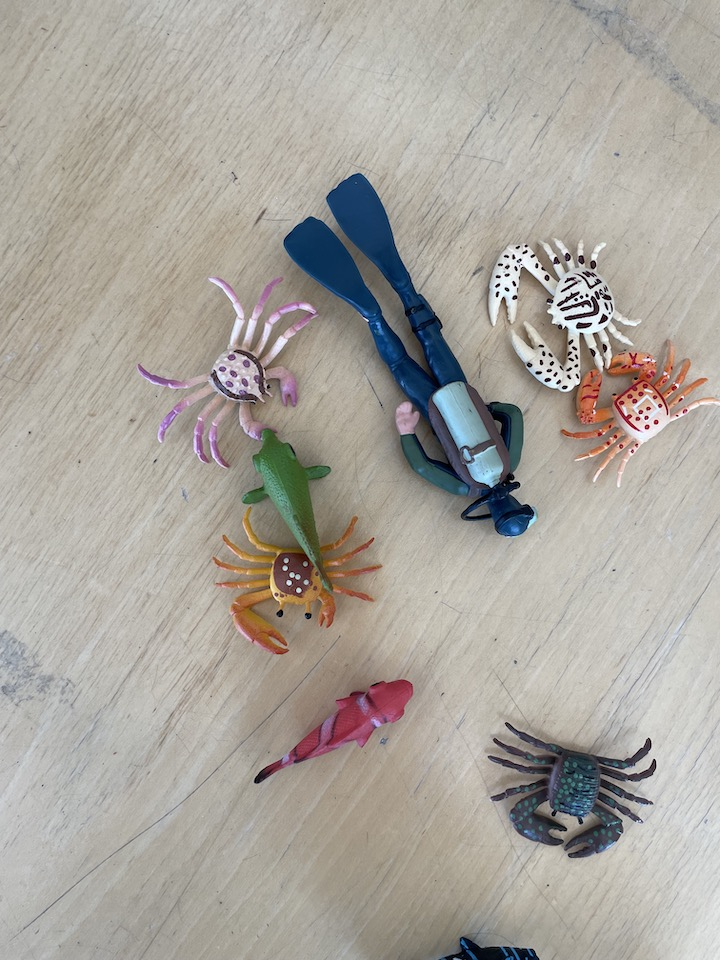crab: (141, 276, 322, 464), (481, 714, 660, 861), (487, 234, 647, 395), (217, 500, 379, 658), (558, 338, 717, 484)
diver: (281, 171, 545, 544)
fish: (246, 676, 421, 792), (231, 421, 339, 596), (442, 937, 545, 960)
